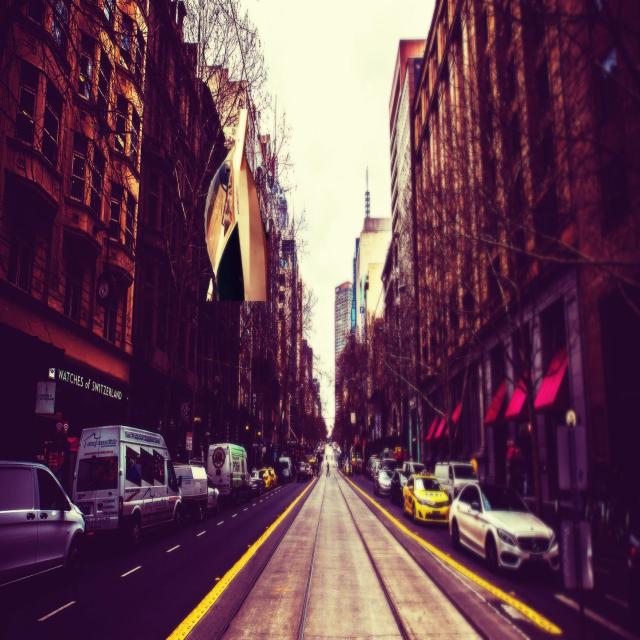airplane: (203, 109, 267, 302)
